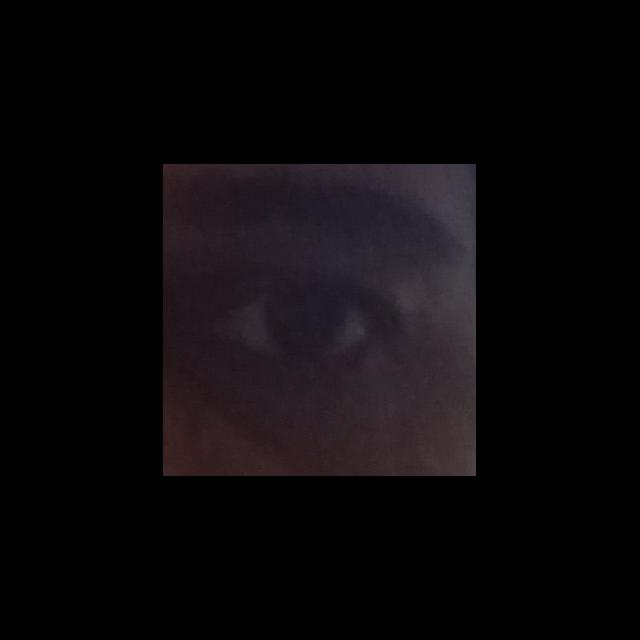eye: (213, 288, 374, 357)
iris: (264, 291, 349, 353)
